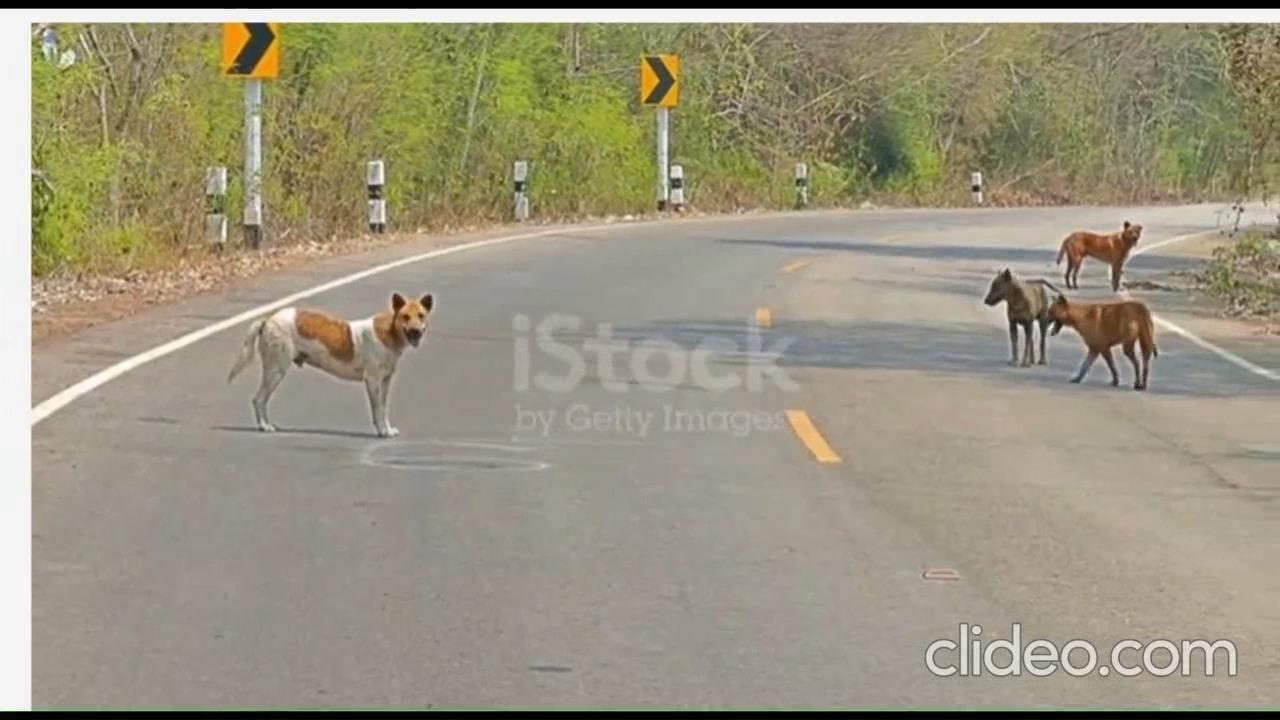dog: (231, 288, 440, 435), (1033, 277, 1160, 394), (1050, 217, 1149, 286), (987, 270, 1051, 364)
